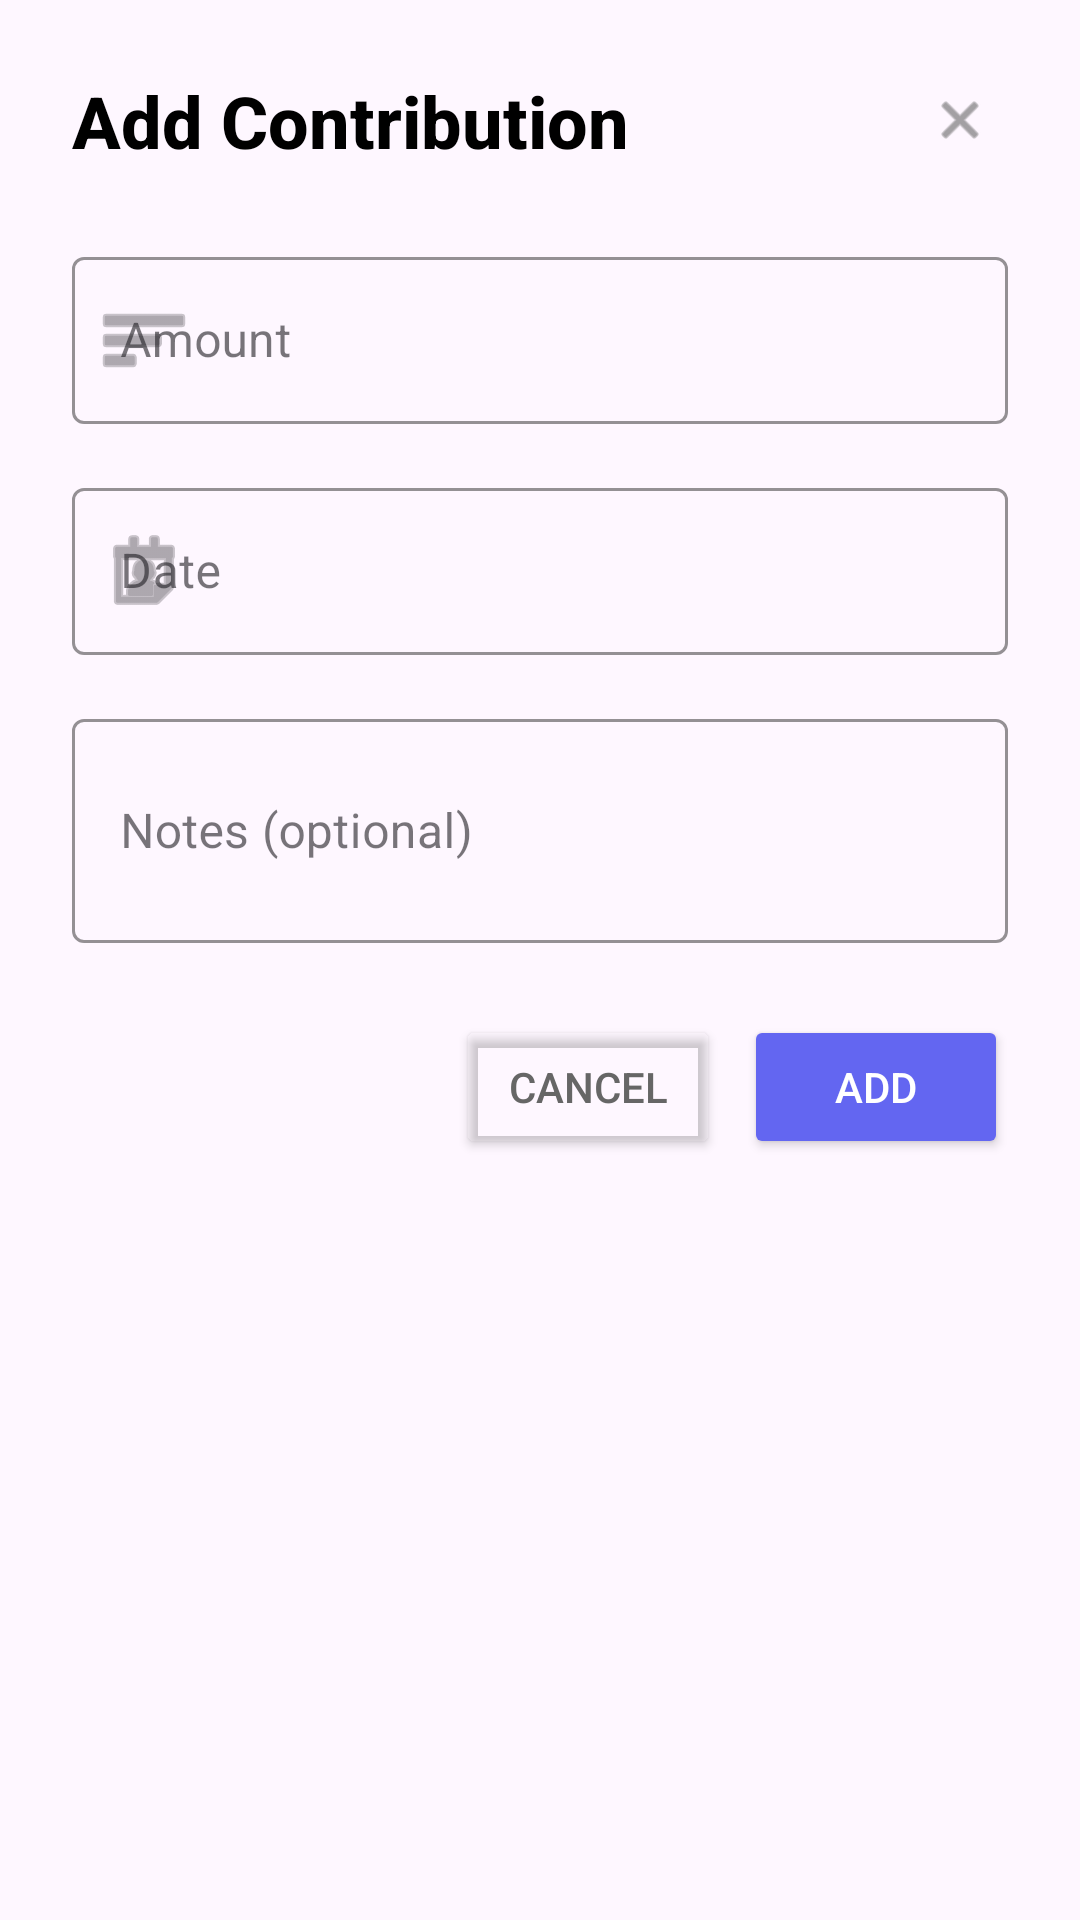

Named icons in this screenshot (1080px×1920px) and their centers, point (x, y):
close clear cancel: point (960, 120)
